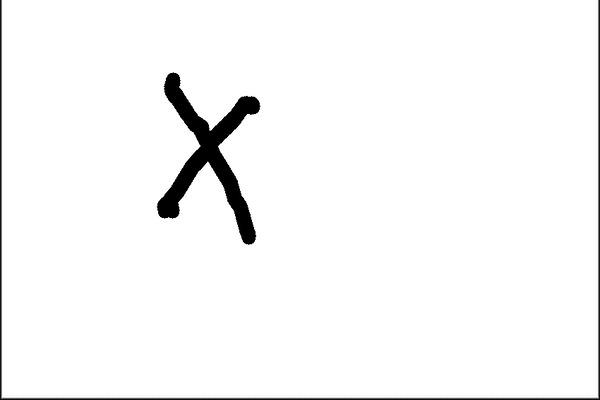X: (134, 65, 266, 252)
